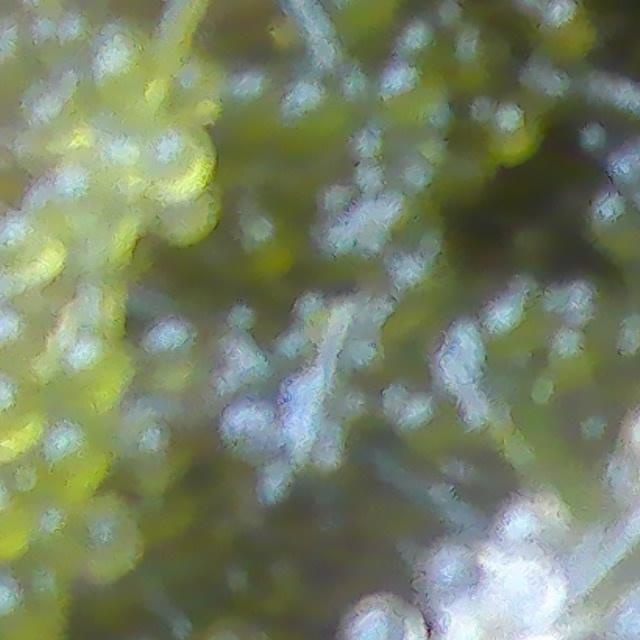SeaGrape: (35, 421, 108, 504), (480, 559, 561, 629), (65, 333, 133, 415), (494, 491, 572, 560), (88, 38, 154, 119), (77, 508, 142, 586), (0, 203, 60, 285), (0, 573, 70, 640), (144, 135, 212, 201), (281, 73, 347, 141), (165, 61, 218, 130), (534, 0, 593, 61), (383, 72, 445, 124), (0, 374, 39, 456), (0, 298, 42, 373), (229, 76, 280, 137), (423, 543, 480, 597), (487, 101, 537, 160), (158, 198, 216, 247), (327, 0, 397, 35), (0, 490, 33, 563)
